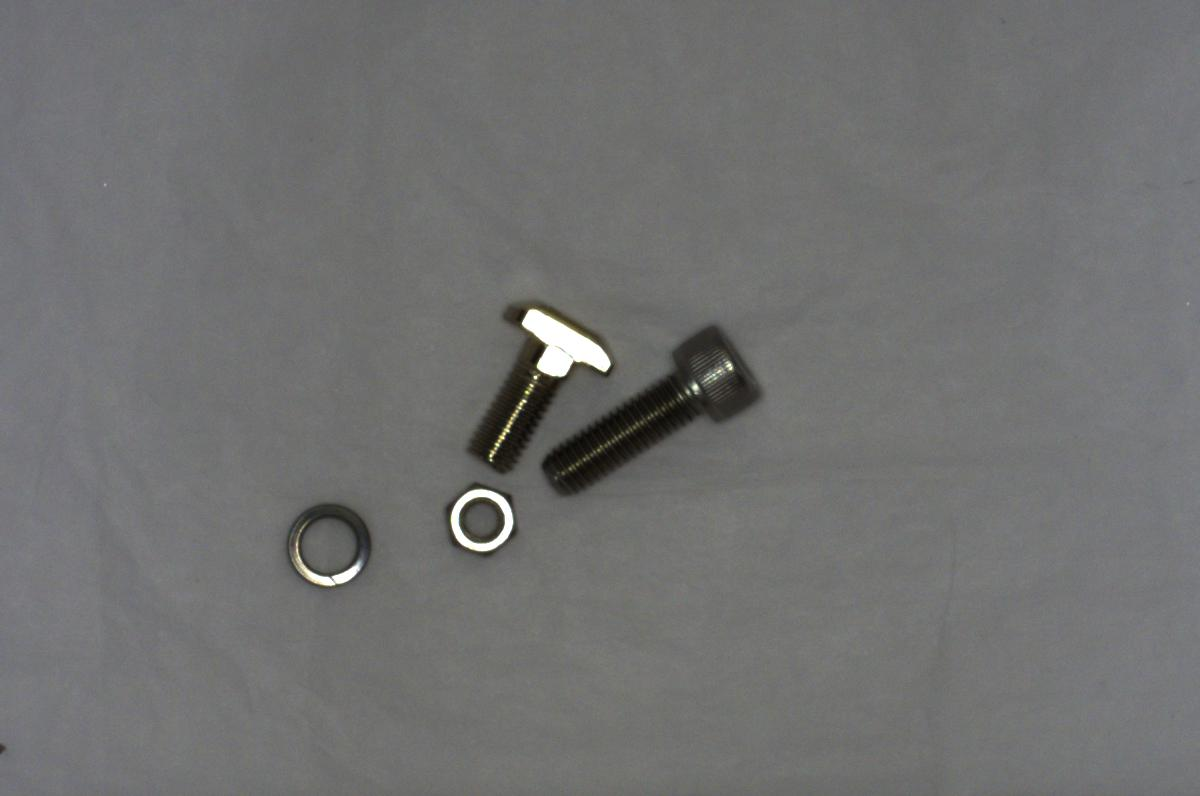Hexagon nut: (441, 474, 522, 565)
Hexagon screw: (537, 325, 762, 500)
Spring washer: (275, 492, 385, 603)
T-shaped screw: (462, 295, 615, 475)
